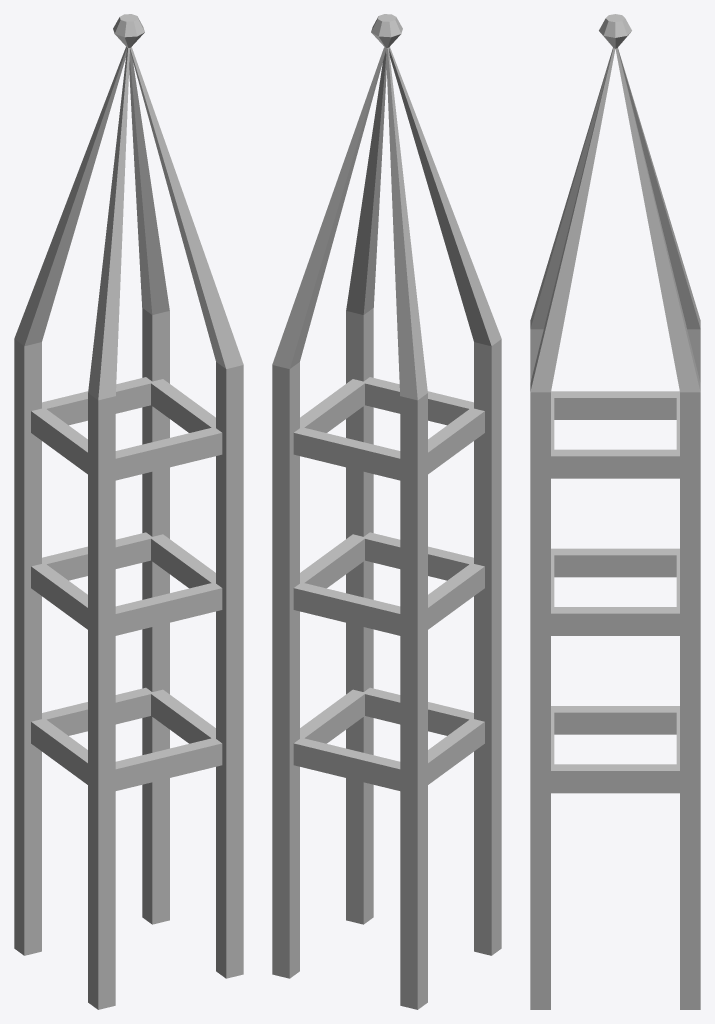
File: Prop_Intel_04.fbx
3 views of the same model, side by side, from view 1: azimuth 30°, elevation 25°; view 2: azimuth 150°, elevation 25°; view 3: azimuth 270°, elevation 25° (orthographic).
Visible parts, largest first — view 1: Prop_Intel_04; view 2: Prop_Intel_04; view 3: Prop_Intel_04.
Part boxes in pixels (left/top/right/bottom): Prop_Intel_04: left=14, top=14, right=243, bottom=1009; Prop_Intel_04: left=272, top=14, right=501, bottom=1009; Prop_Intel_04: left=530, top=14, right=700, bottom=1009.
Size of the model in its own units: 54.6 by 338 by 54.6.
